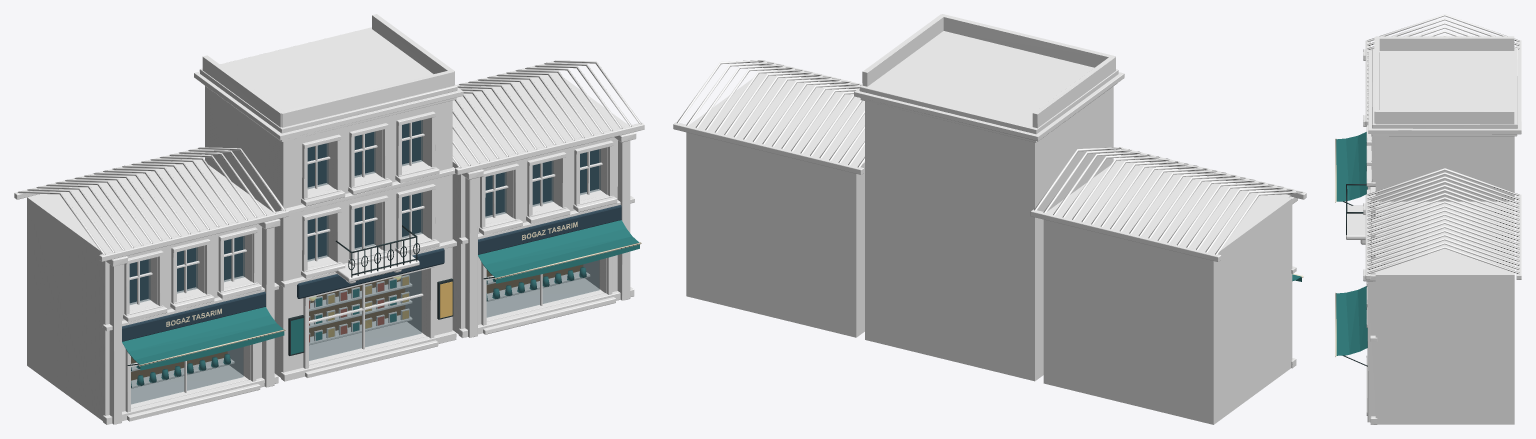
Rendered from DistrictBlock_7_2_LOD1.glb.
3 renders of one model, left to right at view 1: azimuth 30°, elevation 25°; view 2: azimuth 150°, elevation 25°; view 3: azimuth 270°, elevation 25°, orthographic. The views are drawn at different scales.
Parts seen in each view (by area): view 1: RK_DistrictBlock_7_2_LOD1_LC_Lime, RK_DistrictBlock_7_2_LOD1_LC_Wood, RK_DistrictBlock_7_2_LOD1_LC_Glass, RK_DistrictBlock_7_2_LOD1_LC_Ink, RK_DistrictBlock_7_2_LOD1_LC_Teal, RK_DistrictBlock_7_2_LOD1_LC_Tile, RK_DistrictBlock_7_2_LOD1_LC_Interior, RK_DistrictBlock_7_2_LOD1_LC_Iron, RK_DistrictBlock_7_2_LOD1_LC_Canvas, RK_DistrictBlock_7_2_LOD1_LC_Gold; view 2: RK_DistrictBlock_7_2_LOD1_LC_Wood, RK_DistrictBlock_7_2_LOD1_LC_Lime, RK_DistrictBlock_7_2_LOD1_LC_Tile; view 3: RK_DistrictBlock_7_2_LOD1_LC_Wood, RK_DistrictBlock_7_2_LOD1_LC_Lime, RK_DistrictBlock_7_2_LOD1_LC_Tile, RK_DistrictBlock_7_2_LOD1_LC_Teal, RK_DistrictBlock_7_2_LOD1_LC_Canvas, RK_DistrictBlock_7_2_LOD1_LC_Iron.
Boxes of the visible parts, x1=… form: RK_DistrictBlock_7_2_LOD1_LC_Lime: x1=102, y1=14, x2=636, y2=424; RK_DistrictBlock_7_2_LOD1_LC_Wood: x1=14, y1=61, x2=644, y2=420; RK_DistrictBlock_7_2_LOD1_LC_Glass: x1=130, y1=120, x2=600, y2=404; RK_DistrictBlock_7_2_LOD1_LC_Ink: x1=122, y1=120, x2=621, y2=341; RK_DistrictBlock_7_2_LOD1_LC_Teal: x1=122, y1=220, x2=639, y2=387; RK_DistrictBlock_7_2_LOD1_LC_Tile: x1=18, y1=60, x2=641, y2=254; RK_DistrictBlock_7_2_LOD1_LC_Interior: x1=131, y1=264, x2=583, y2=380; RK_DistrictBlock_7_2_LOD1_LC_Iron: x1=127, y1=225, x2=494, y2=365; RK_DistrictBlock_7_2_LOD1_LC_Canvas: x1=139, y1=221, x2=641, y2=366; RK_DistrictBlock_7_2_LOD1_LC_Gold: x1=328, y1=276, x2=452, y2=337; RK_DistrictBlock_7_2_LOD1_LC_Wood: x1=673, y1=60, x2=1306, y2=424; RK_DistrictBlock_7_2_LOD1_LC_Lime: x1=768, y1=14, x2=1297, y2=381; RK_DistrictBlock_7_2_LOD1_LC_Tile: x1=677, y1=60, x2=1302, y2=254; RK_DistrictBlock_7_2_LOD1_LC_Wood: x1=1365, y1=40, x2=1521, y2=424; RK_DistrictBlock_7_2_LOD1_LC_Lime: x1=1346, y1=36, x2=1521, y2=424; RK_DistrictBlock_7_2_LOD1_LC_Tile: x1=1367, y1=14, x2=1519, y2=274; RK_DistrictBlock_7_2_LOD1_LC_Teal: x1=1336, y1=132, x2=1367, y2=355; RK_DistrictBlock_7_2_LOD1_LC_Canvas: x1=1335, y1=139, x2=1336, y2=356; RK_DistrictBlock_7_2_LOD1_LC_Iron: x1=1343, y1=184, x2=1367, y2=366.
Size of the model in its own units: 19.23 by 9.02 by 6.44.
